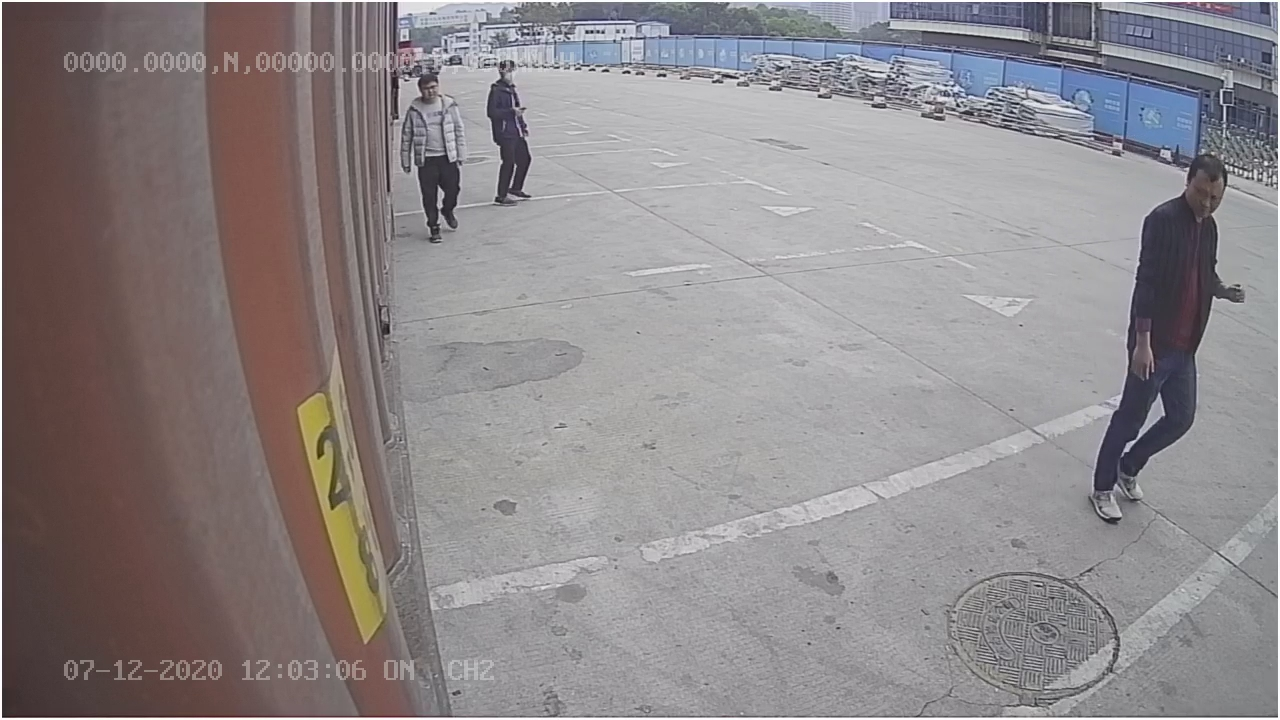person: (1090, 145, 1245, 526)
